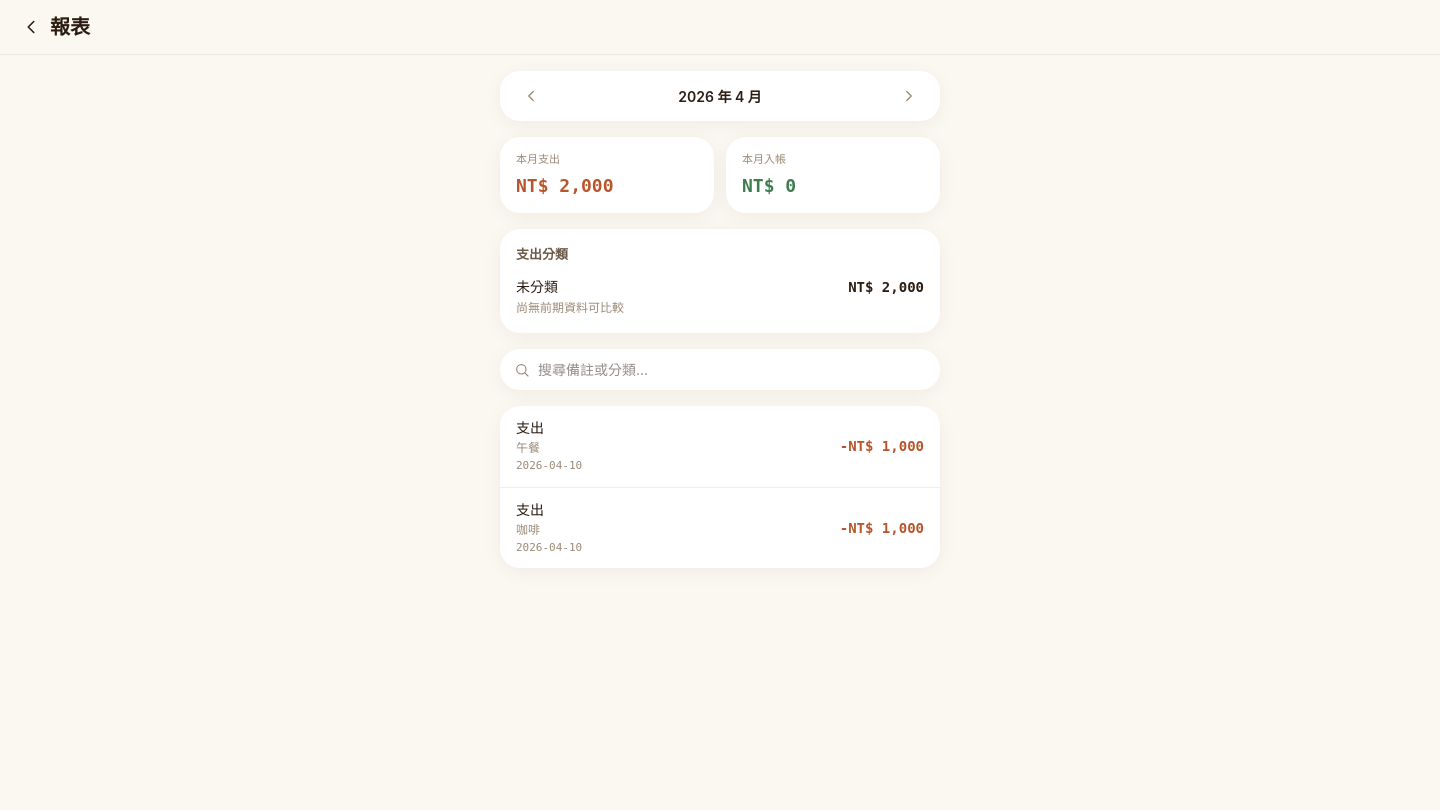
Scenario: ReportView › 搜尋功能 › 搜尋備註過濾記錄
Type "午餐" into the field with placeholder "搜尋備註或分類...". click: (732, 370)
box: top-left (538, 359), bottom-right (926, 380)
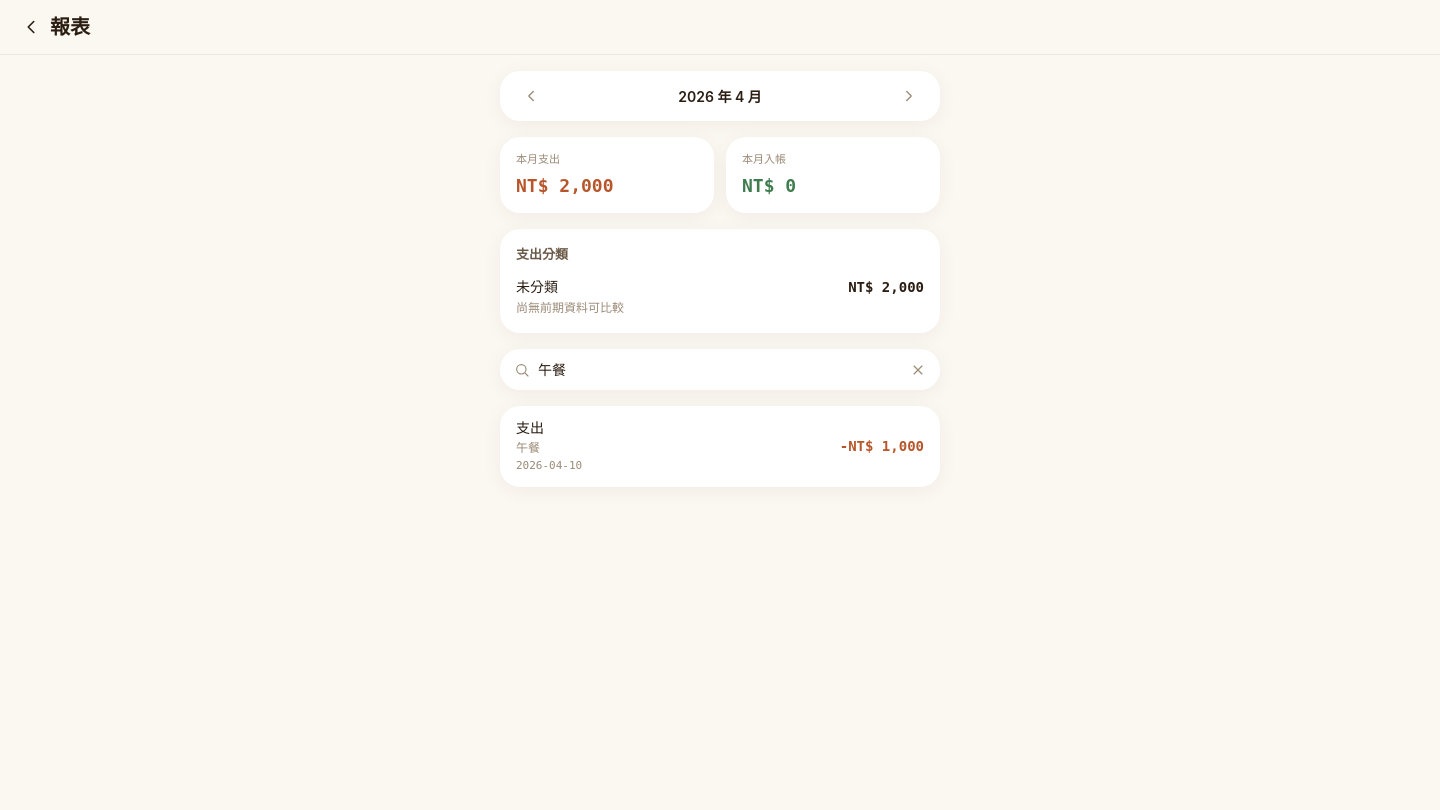
Expected: the text "午餐" is shown, top-left (516, 440), bottom-right (540, 455)
Expected: the text "咖啡" is gone
